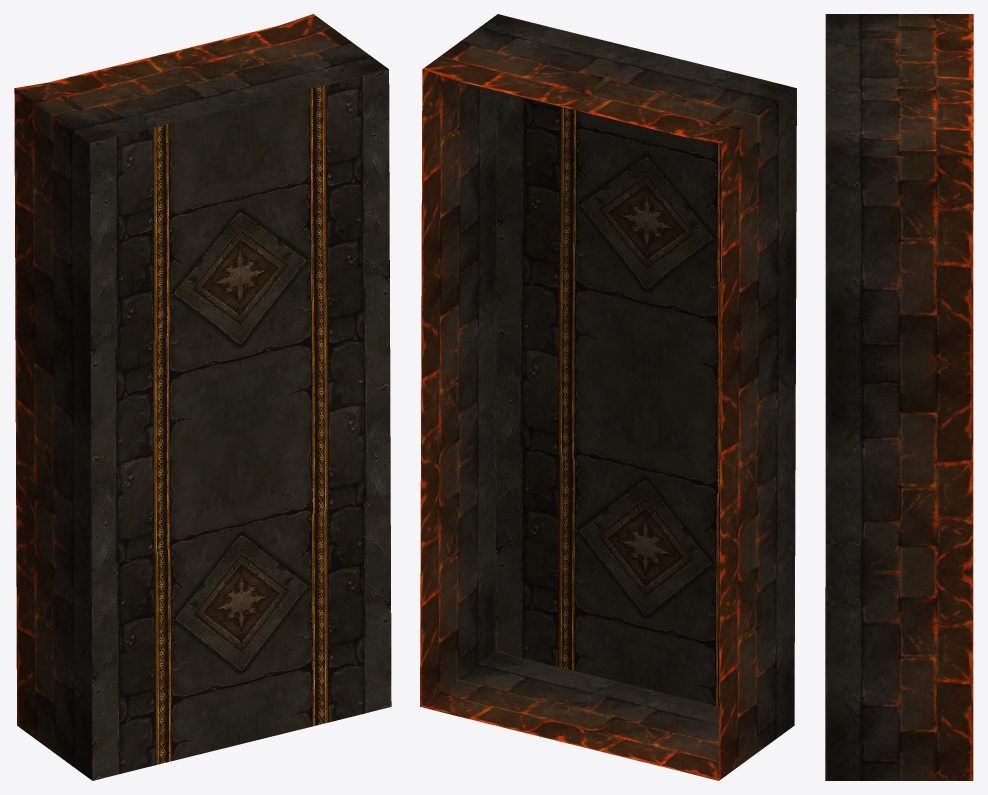
The model's file is juqing_fuben_292_qiao_01c.obj.
3 views of the same model, side by side, from view 1: azimuth 30°, elevation 25°; view 2: azimuth 150°, elevation 25°; view 3: azimuth 270°, elevation 25° (orthographic). The views are drawn at different scales.
Visible parts, largest first — view 1: juqing_fuben_292_qiao_01c; view 2: juqing_fuben_292_qiao_01c; view 3: juqing_fuben_292_qiao_01c.
Boxes of the visible parts, left/top/right/bottom form: juqing_fuben_292_qiao_01c: left=14, top=14, right=391, bottom=780; juqing_fuben_292_qiao_01c: left=420, top=14, right=796, bottom=780; juqing_fuben_292_qiao_01c: left=825, top=14, right=973, bottom=780.
Bounding box in the file's own units: 511 × 1036 × 222.
Materials: 2 (2 with a texture image).
